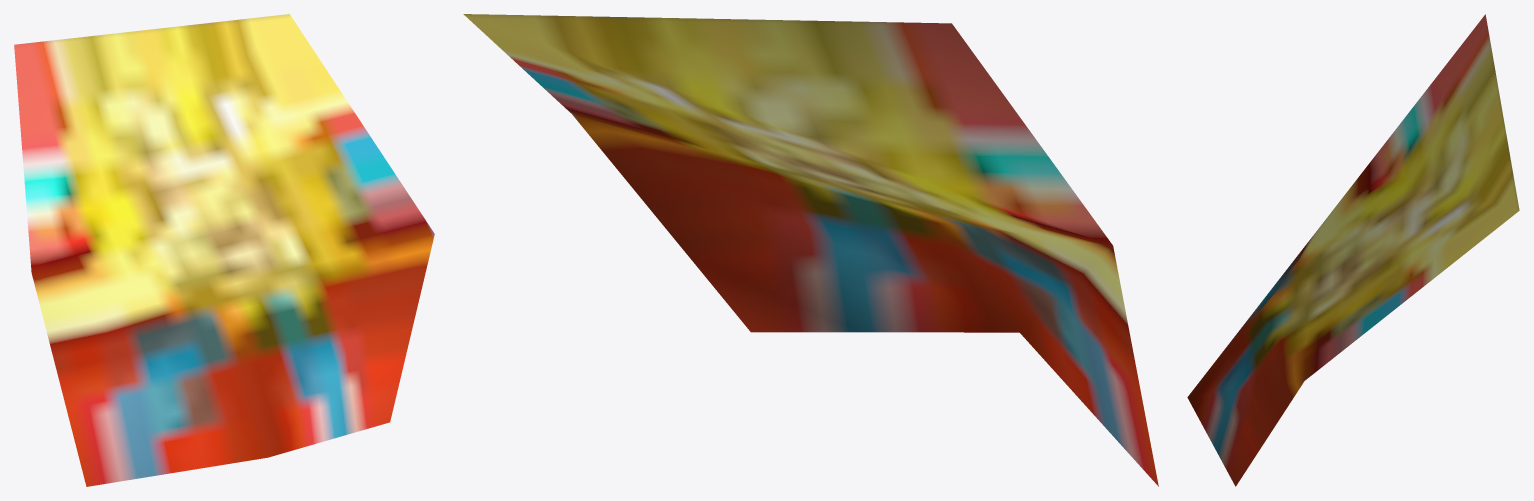
File: fg_g_easter_ticket_out.dae
3 views of the same model, side by side, from view 1: azimuth 30°, elevation 25°; view 2: azimuth 150°, elevation 25°; view 3: azimuth 270°, elevation 25° (orthographic). The views are drawn at different scales.
Parts seen in each view (by area): view 1: fg_g_easter_ticket_out; view 2: fg_g_easter_ticket_out; view 3: fg_g_easter_ticket_out.
Boxes of the visible parts, x1,y1,x2,y2 form: fg_g_easter_ticket_out: (14, 14, 434, 486); fg_g_easter_ticket_out: (463, 14, 1158, 486); fg_g_easter_ticket_out: (1187, 14, 1519, 486).
Bounding box in the file's own units: 16 × 14.78 × 12.28.
Materials: 1 (1 with a texture image).
